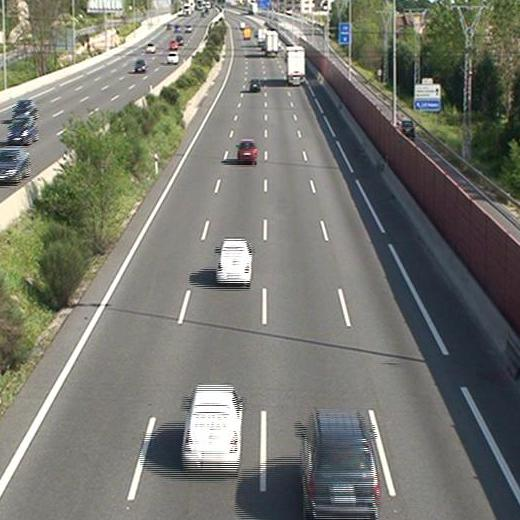car: (303, 413, 379, 513), (181, 386, 241, 469), (217, 238, 252, 283), (237, 140, 258, 161), (249, 78, 260, 90)
truck: (287, 47, 304, 85), (265, 29, 278, 56)
